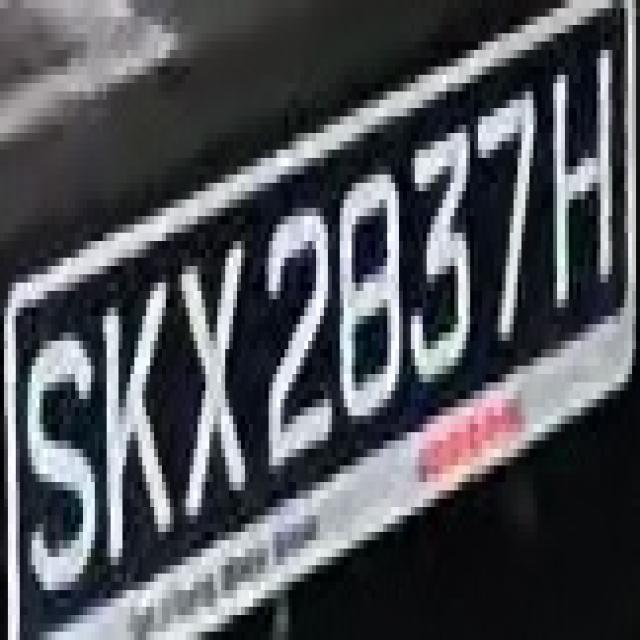2: (249, 208, 340, 482)
3: (399, 108, 478, 391)
7: (458, 91, 538, 366)
8: (320, 150, 415, 432)
H: (553, 41, 620, 332)
K: (91, 266, 170, 590)
S: (24, 307, 110, 624)
X: (178, 224, 261, 532)
